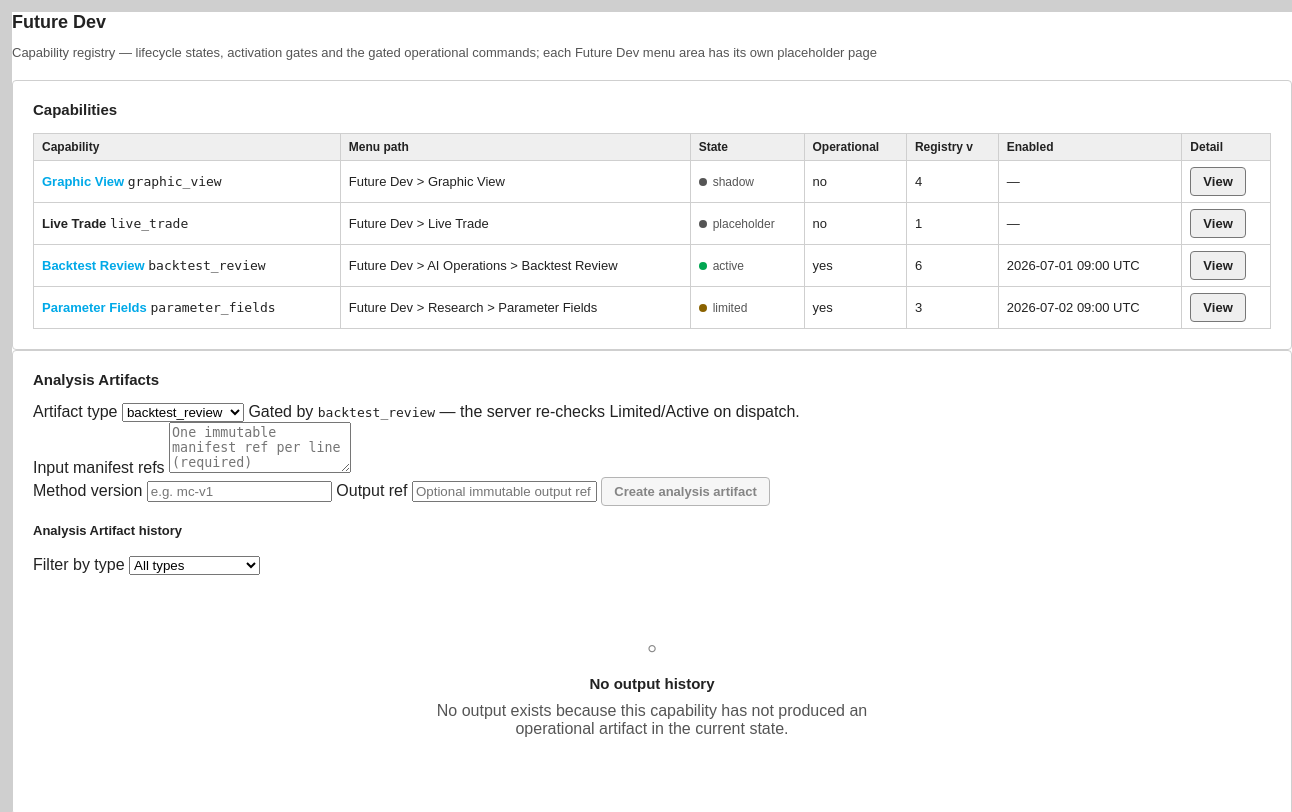
Scenario: Future Dev page › requires a non-empty reason before a transition can be applied
Check: the text "Live Trade" is shown, box [42,216,106,231]
Click the button "View" in the row of "graphic_view" at (1218, 182), box [1190,167,1246,196]
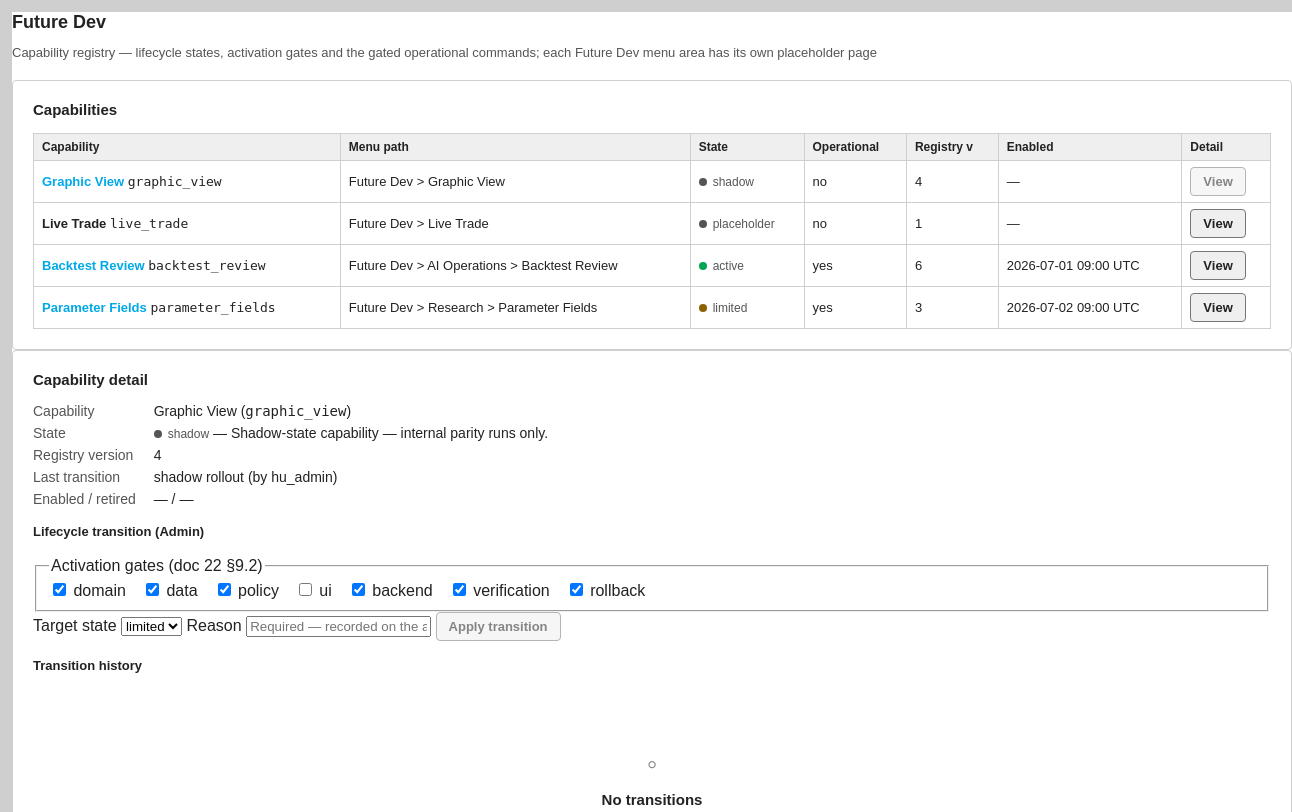
Check: the text "shadow rollout (by hu_admin)" is shown, box [154,469,337,485]
Check: the button "Apply transition" is disabled, box [436,612,561,641]
Type "promote to limited" into the field named "Transition reason" at (339, 627), box [246,616,431,637]
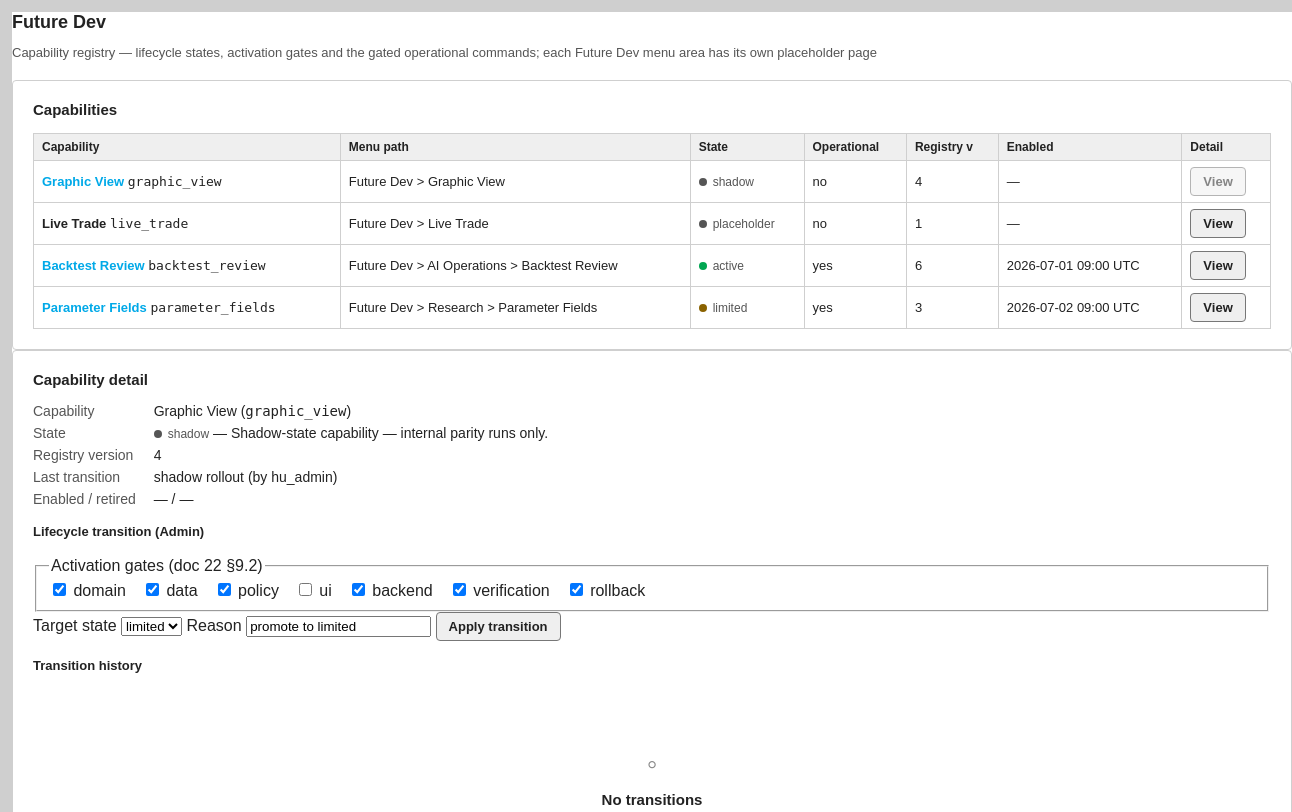
Check: the button "Apply transition" is enabled, box [436,612,561,641]
